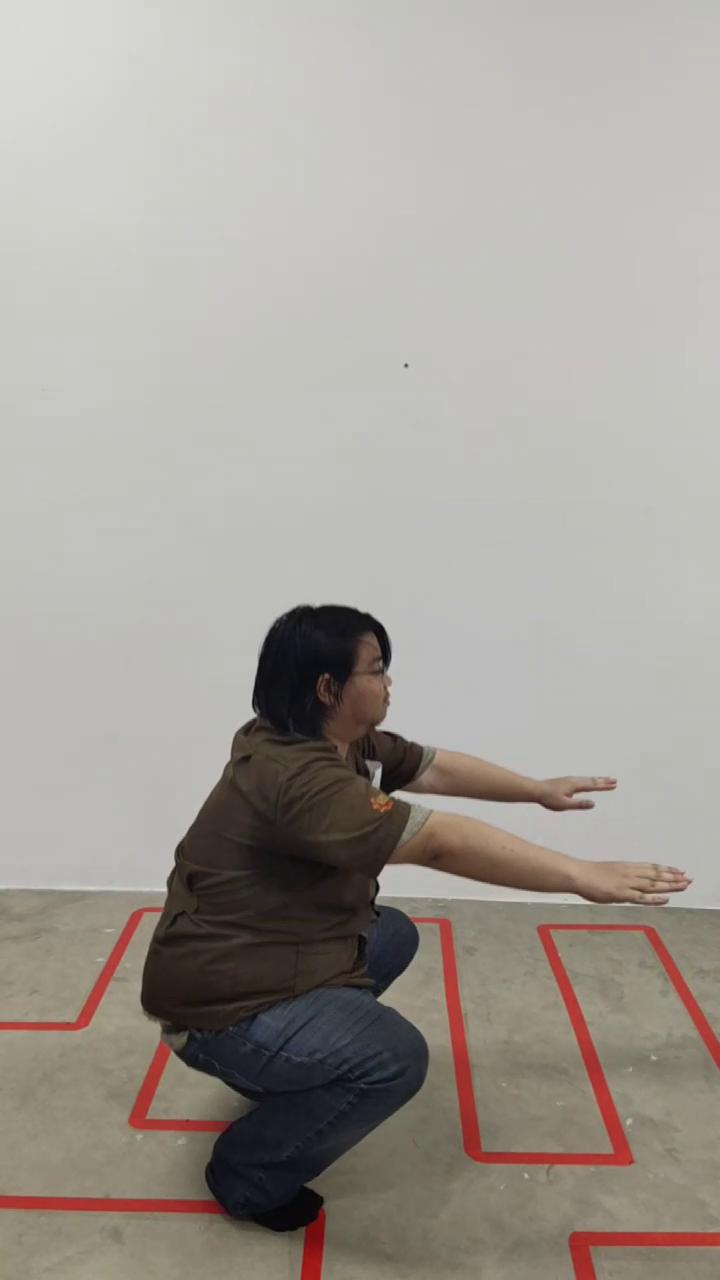squat down: (141, 606, 691, 1232)
